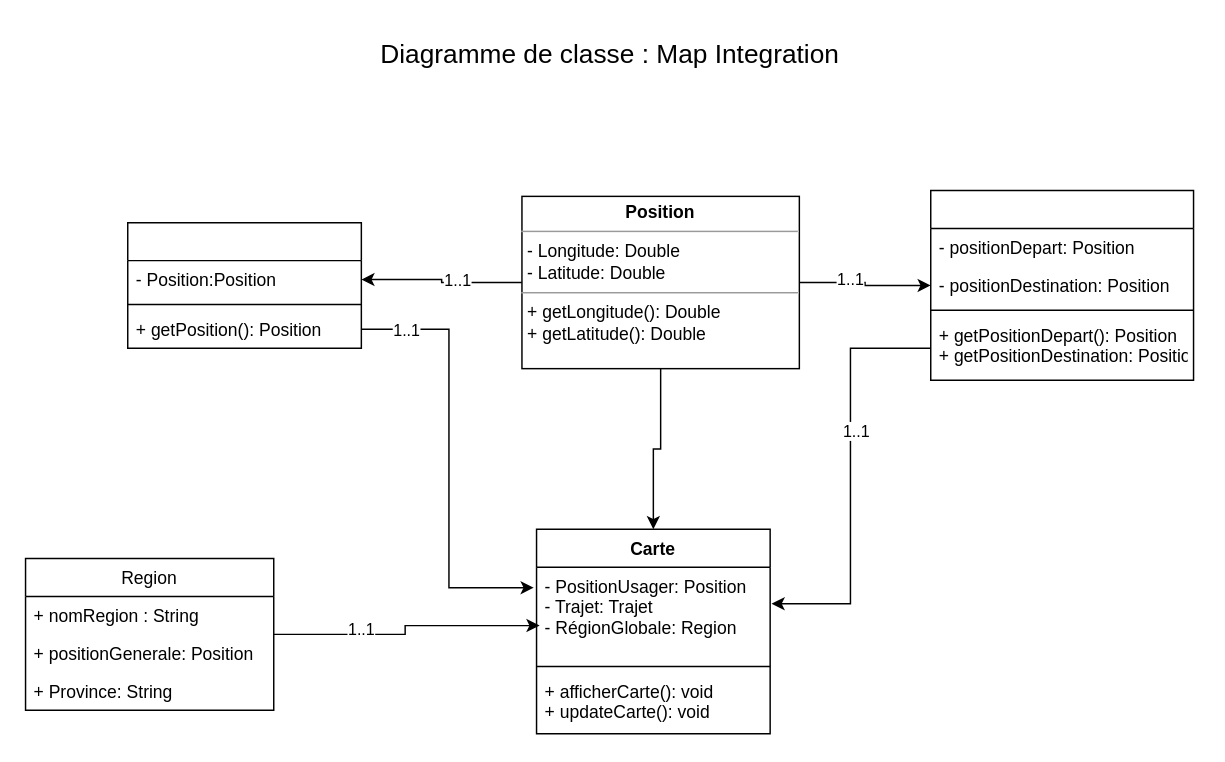
Some shapes in this 1225 by 762 pixel diagram are drawn without their labels. The box of each missing label's shape, as (x1, y1, x2, y2) in pixels:
PositionActuelleUsager: (126, 221, 361, 348)
Trajet: (929, 189, 1194, 380)
